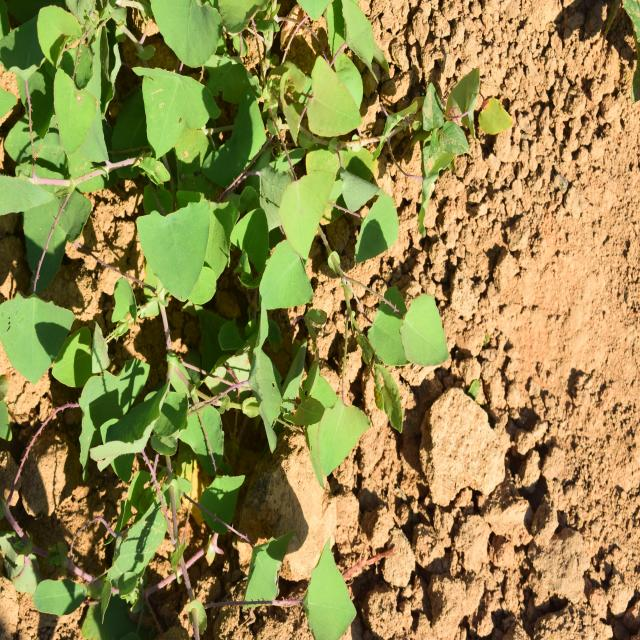Asiatic_Smartweed: (262, 152, 438, 454), (124, 48, 256, 340)
